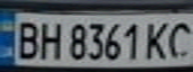1: (121, 19, 145, 61)
3: (84, 19, 106, 61)
6: (103, 19, 127, 62)
8: (63, 19, 87, 61)
B: (9, 17, 42, 61)
C: (163, 17, 193, 59)
H: (33, 18, 66, 61)
K: (142, 17, 175, 61)
